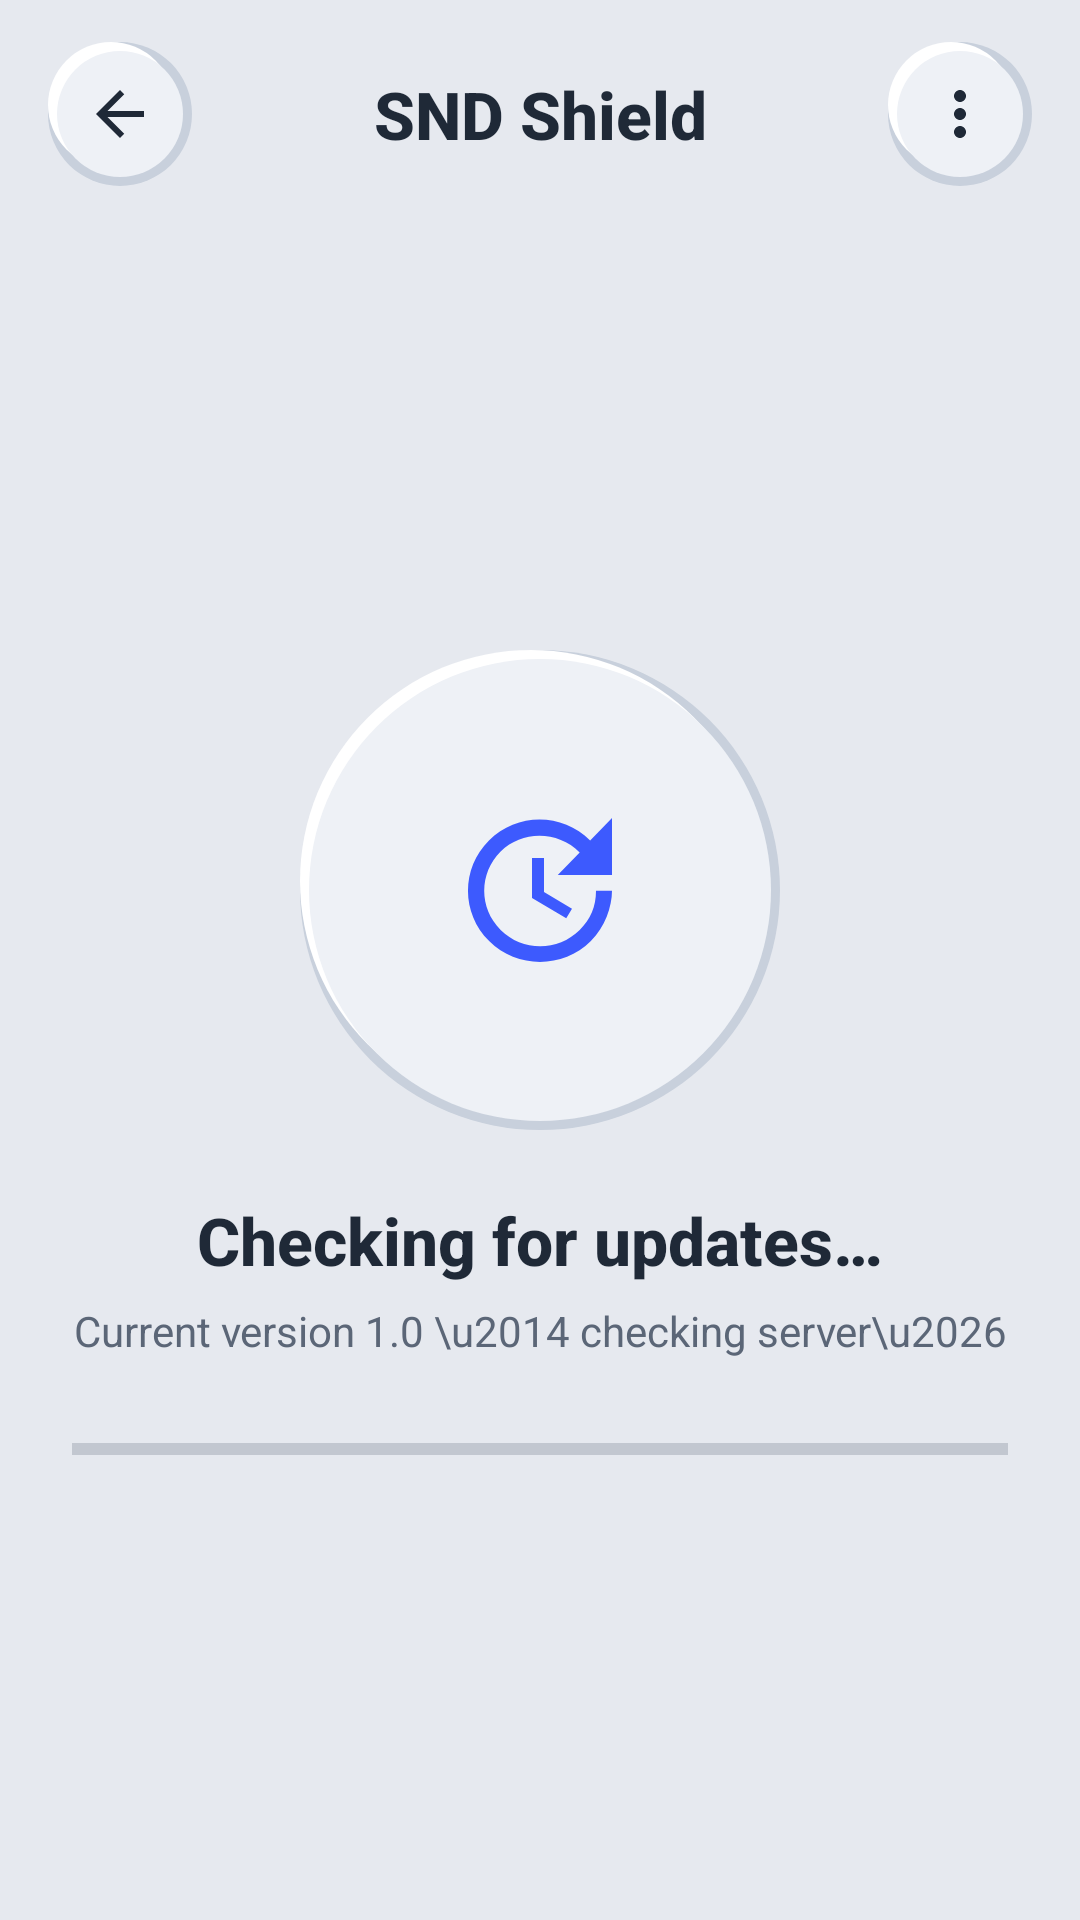

Named icons in this screenshot (1080x1920) and their centers, [x,y]:
Back: [120,114]
In-App Update: [540,890]
